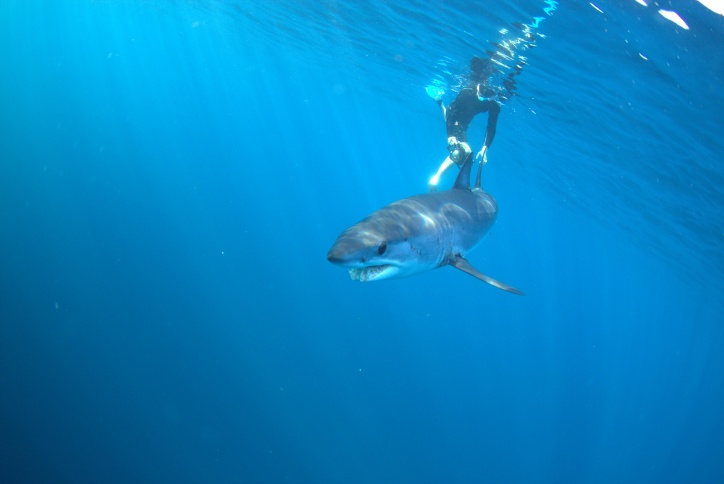Mako: (310, 151, 523, 310)
